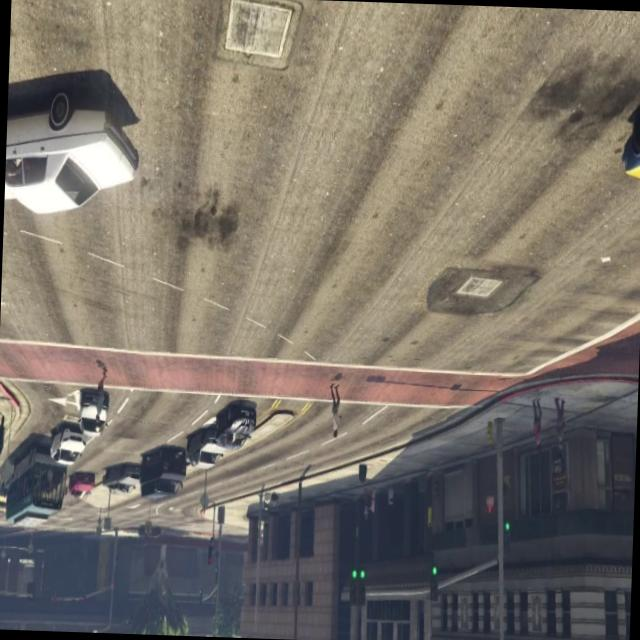Green-Signal: (346, 552, 370, 614), (424, 552, 444, 612), (498, 510, 516, 564)
